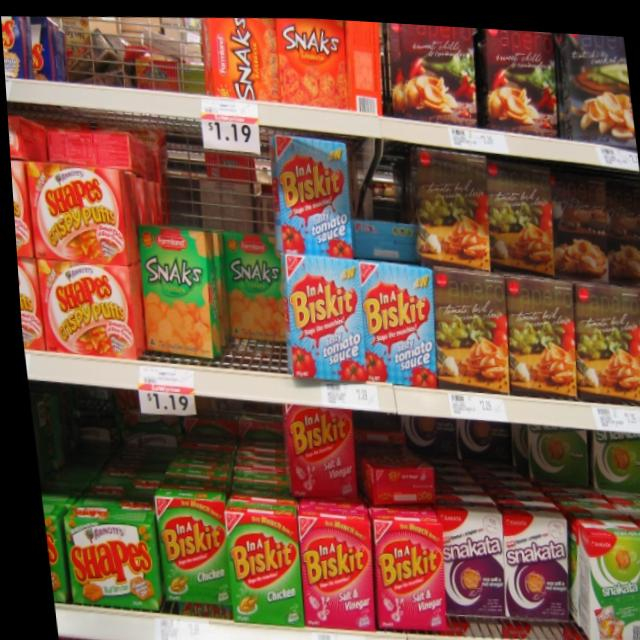q286: (147, 486, 228, 608), (220, 497, 297, 624)
